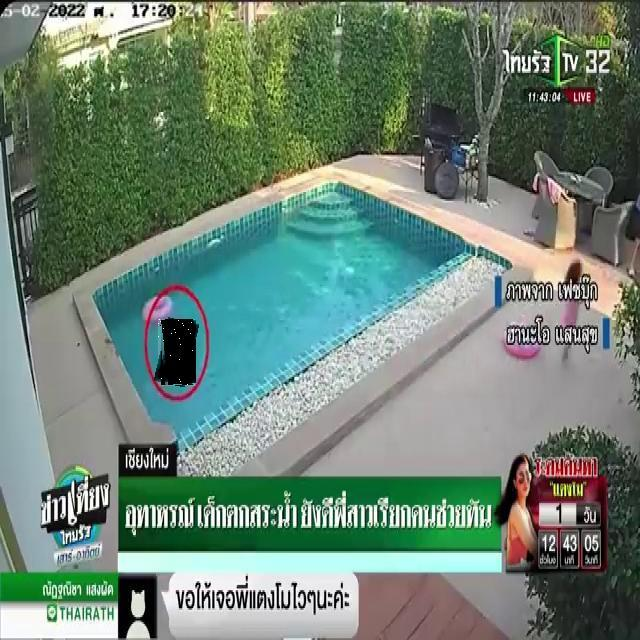Out of Water: (158, 319, 196, 386)
